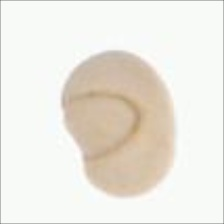L5: (58, 92, 146, 163), (157, 77, 181, 153)
L6: (59, 45, 181, 200)
